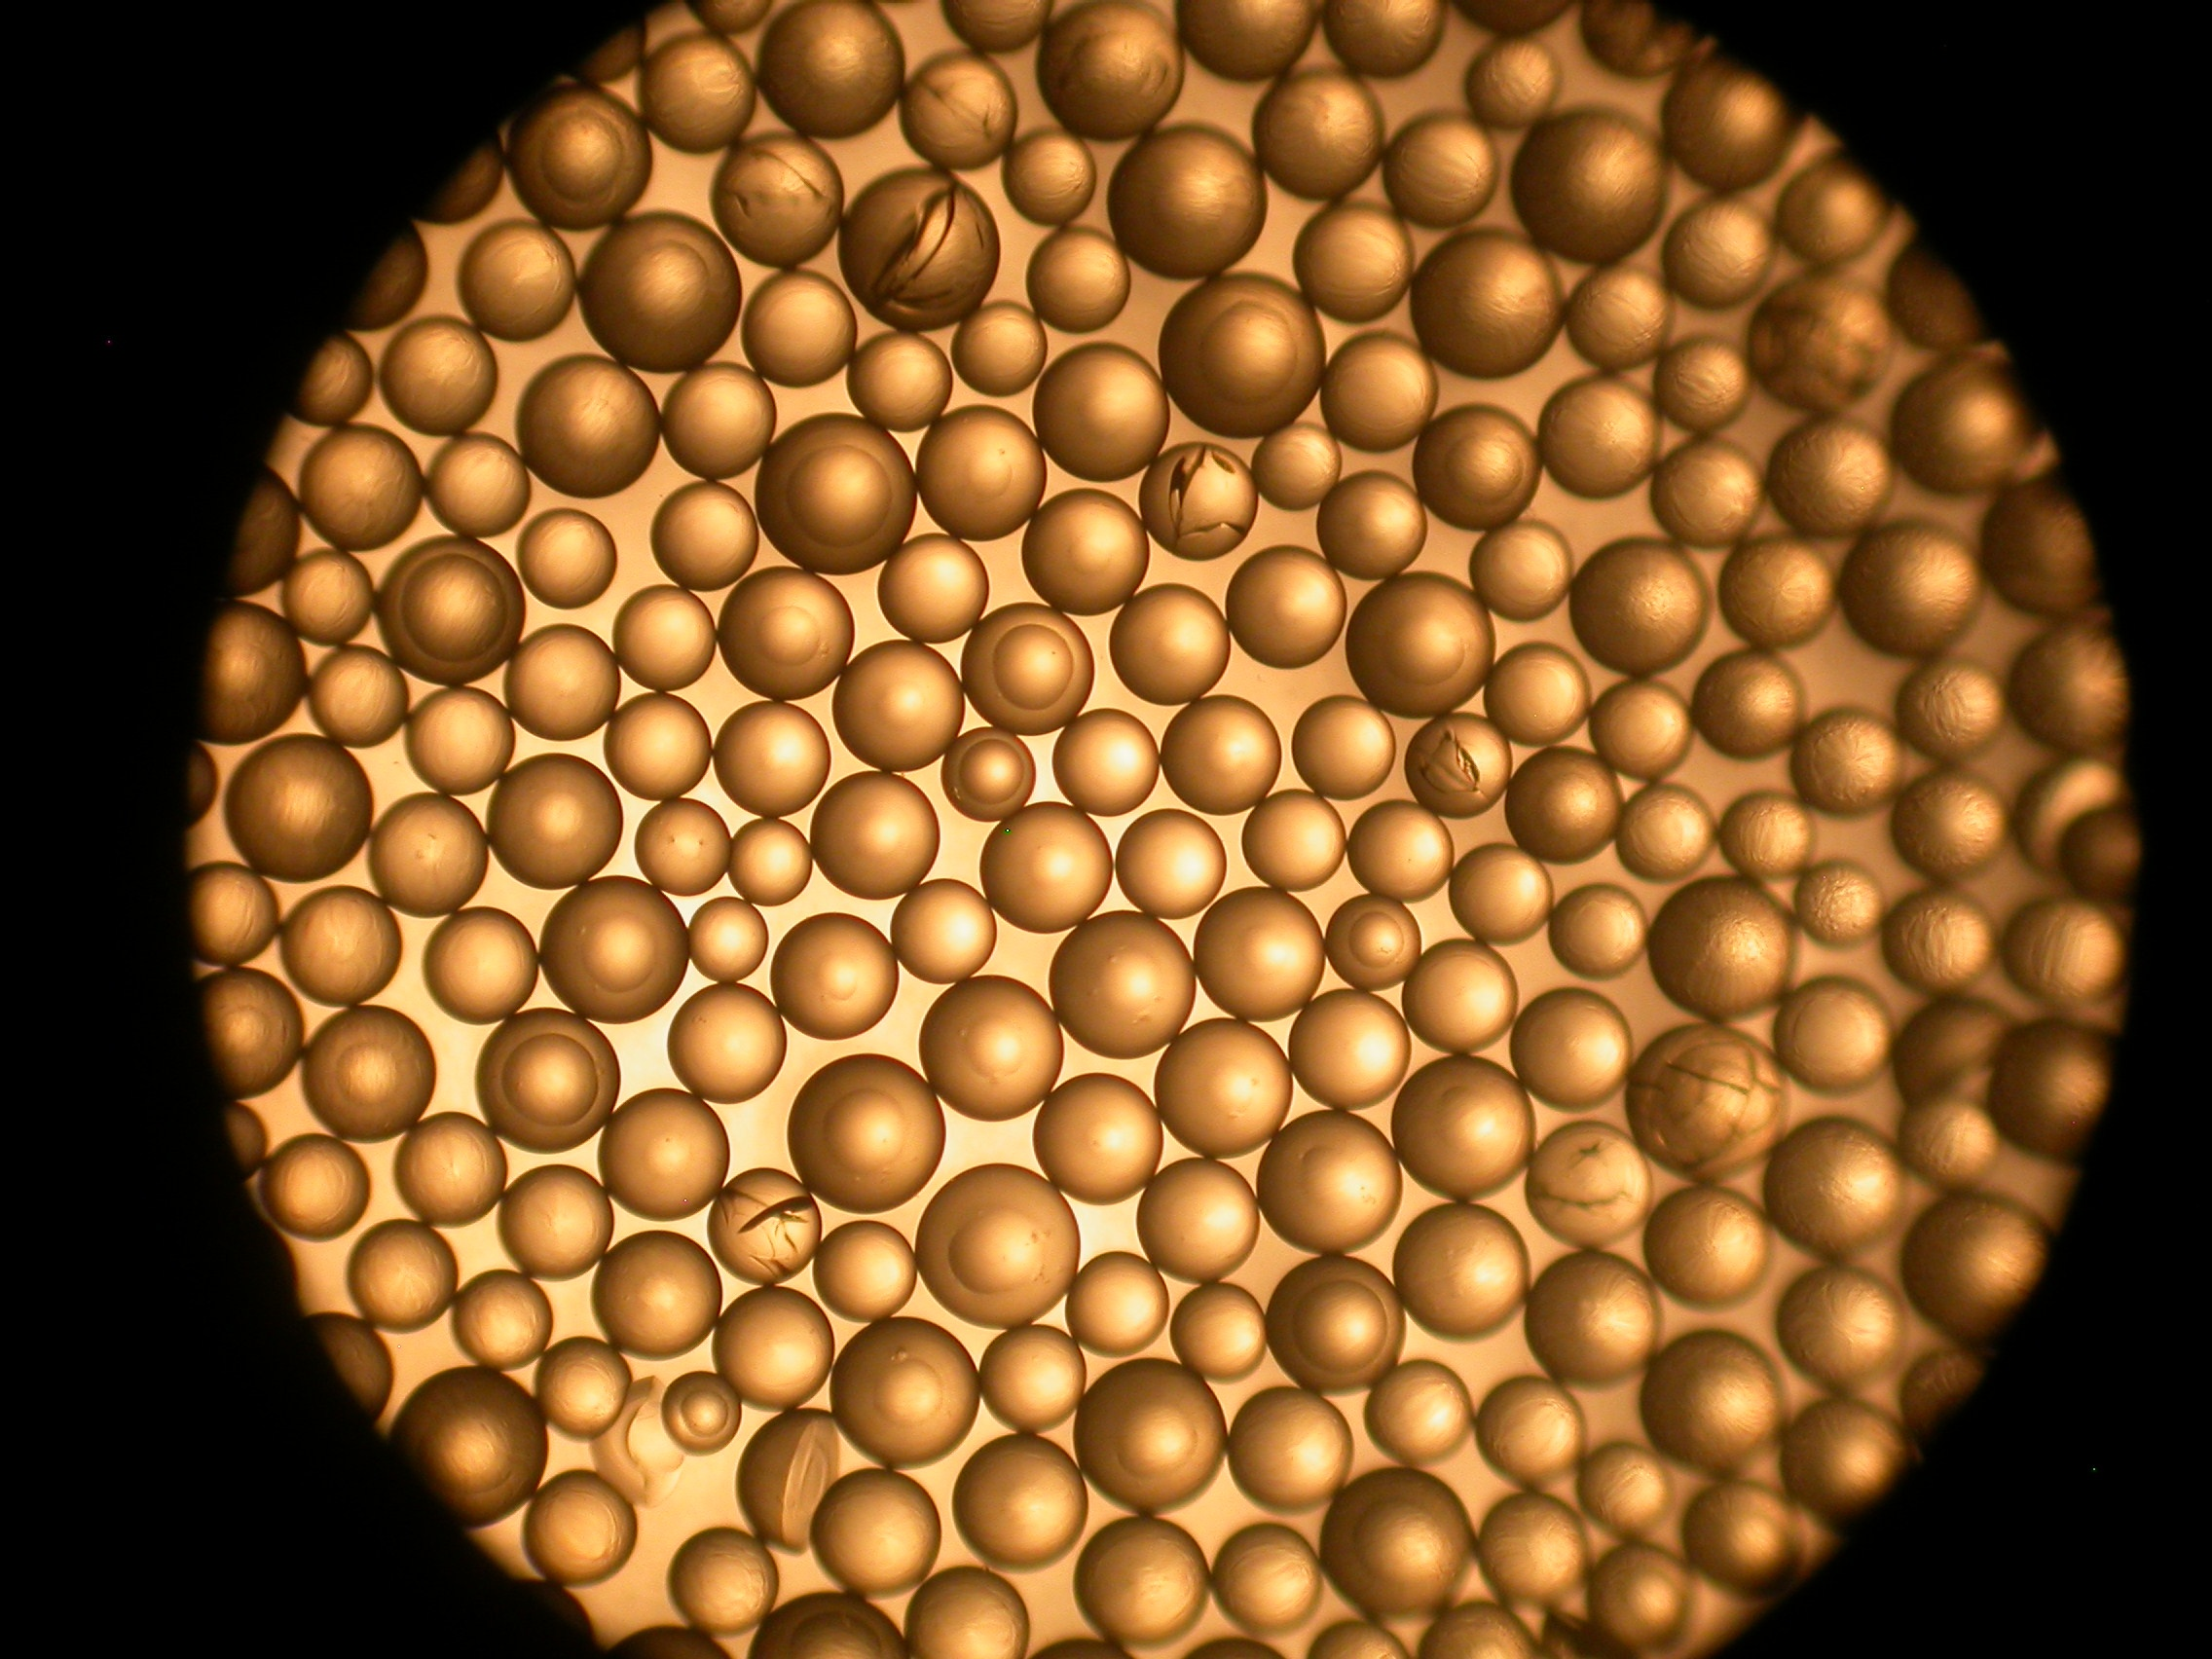destroyed_resin: (838, 167, 1001, 335), (1629, 1025, 1791, 1180), (1747, 270, 1900, 411), (712, 134, 845, 265), (1524, 1119, 1651, 1249), (735, 1408, 840, 1556), (1137, 444, 1259, 561), (897, 54, 1019, 167), (707, 1168, 822, 1286), (1893, 995, 2010, 1105), (2015, 758, 2125, 868), (1406, 713, 1514, 821)
full_resin: (914, 1164, 1083, 1331), (1158, 274, 1325, 441), (754, 411, 918, 577), (387, 1366, 550, 1528), (582, 211, 744, 373), (787, 1053, 948, 1215), (1104, 124, 1268, 279), (1510, 106, 1669, 265), (1320, 1467, 1475, 1622), (1409, 228, 1566, 380), (1075, 1358, 1226, 1513), (1900, 1194, 2059, 1342), (829, 1317, 979, 1471), (1047, 910, 1197, 1061), (225, 734, 374, 884), (540, 877, 690, 1025), (378, 537, 526, 685), (920, 974, 1066, 1124), (1648, 877, 1797, 1023), (477, 1007, 624, 1155), (1346, 573, 1496, 718), (1256, 1110, 1404, 1255), (1392, 1056, 1538, 1201), (1639, 1331, 1787, 1474), (510, 85, 653, 232), (1893, 352, 2034, 500), (516, 355, 658, 500), (1035, 2, 1184, 139), (1764, 1117, 1907, 1260), (756, 2, 904, 138), (1033, 343, 1172, 484), (1266, 1256, 1407, 1396), (1153, 1018, 1292, 1159), (1524, 1249, 1663, 1391), (1839, 521, 1984, 657), (486, 753, 625, 892), (1392, 1202, 1531, 1342), (1663, 49, 1797, 193), (1571, 537, 1710, 674), (301, 1006, 437, 1141), (953, 1436, 1089, 1572), (597, 1086, 732, 1223), (1982, 472, 2107, 619), (719, 566, 855, 701), (833, 638, 967, 774), (961, 601, 1097, 735), (979, 802, 1116, 934), (1073, 1516, 1211, 1649), (1252, 68, 1386, 202), (914, 404, 1045, 542), (1991, 1021, 2118, 1162), (1193, 889, 1325, 1023), (1033, 1072, 1165, 1206), (592, 1230, 725, 1363), (770, 910, 900, 1042), (192, 599, 308, 746), (1780, 1399, 1916, 1525), (1021, 488, 1150, 619), (1644, 1183, 1775, 1312), (810, 774, 941, 901), (812, 1471, 942, 1598), (1228, 1387, 1355, 1516), (1766, 415, 1897, 540), (2015, 620, 2134, 758), (1413, 404, 1541, 530), (1136, 1157, 1261, 1284), (1777, 1265, 1909, 1385), (1292, 200, 1416, 326), (712, 1288, 836, 1413), (1538, 376, 1663, 500), (1108, 582, 1231, 706), (301, 427, 425, 549), (280, 885, 402, 1009), (1226, 545, 1348, 669), (1289, 988, 1413, 1110), (1510, 988, 1632, 1112), (1160, 695, 1284, 816), (1773, 976, 1893, 1100), (369, 793, 488, 918), (639, 31, 756, 159), (667, 983, 787, 1105), (1683, 1480, 1803, 1601), (2001, 894, 2127, 1011), (458, 220, 577, 342), (195, 969, 305, 1100), (1503, 748, 1623, 866), (496, 1164, 615, 1283), (1318, 331, 1435, 451), (381, 317, 498, 436), (662, 362, 779, 481), (1402, 939, 1521, 1056), (1719, 533, 1838, 650), (505, 624, 622, 741), (523, 1471, 639, 1588), (1383, 112, 1500, 228), (712, 702, 831, 817), (394, 1112, 509, 1229), (1662, 197, 1777, 314), (742, 270, 855, 389), (1778, 150, 1892, 268), (425, 908, 538, 1025), (1892, 770, 2008, 882), (1791, 704, 1904, 817), (1883, 885, 1998, 997), (348, 1218, 458, 1335), (1211, 1523, 1324, 1635), (1475, 1375, 1588, 1486), (1651, 439, 1764, 551), (1564, 265, 1679, 375), (1317, 471, 1428, 582), (1116, 809, 1228, 920), (1693, 652, 1806, 762), (261, 1133, 373, 1243), (603, 692, 712, 802), (878, 535, 989, 643), (1364, 1359, 1475, 1467), (904, 1567, 1033, 1659), (650, 483, 758, 592), (406, 687, 516, 795), (1052, 708, 1160, 817), (667, 1530, 779, 1636), (1475, 1492, 1590, 1595), (979, 1323, 1085, 1432), (892, 877, 998, 985), (1026, 227, 1132, 335), (1588, 1542, 1696, 1649), (1897, 657, 2008, 760), (1176, 2, 1320, 80), (1291, 695, 1397, 802), (449, 1267, 556, 1371), (1064, 1251, 1169, 1358), (533, 1335, 636, 1443), (1346, 800, 1454, 903), (613, 587, 716, 694), (1468, 521, 1575, 624), (1242, 789, 1348, 892), (1482, 643, 1590, 744), (813, 1220, 918, 1323), (846, 335, 953, 436), (1449, 845, 1555, 946), (1897, 1098, 2006, 1195), (310, 643, 409, 749), (1588, 680, 1695, 779), (430, 436, 531, 537), (517, 509, 618, 610), (1615, 782, 1717, 882), (183, 861, 279, 967), (1325, 892, 1423, 993), (1170, 1283, 1268, 1384), (1548, 884, 1649, 981), (1318, 2, 1446, 78), (951, 301, 1049, 399), (941, 727, 1038, 824), (1655, 336, 1752, 434), (634, 798, 730, 897), (1001, 129, 1097, 227), (279, 549, 374, 647), (1578, 1441, 1674, 1539), (1719, 789, 1815, 885), (1465, 35, 1559, 131), (284, 333, 376, 429), (1251, 422, 1343, 512), (1794, 861, 1885, 951), (2064, 809, 2151, 903), (730, 817, 812, 906), (686, 897, 770, 981), (660, 1370, 740, 1455)
